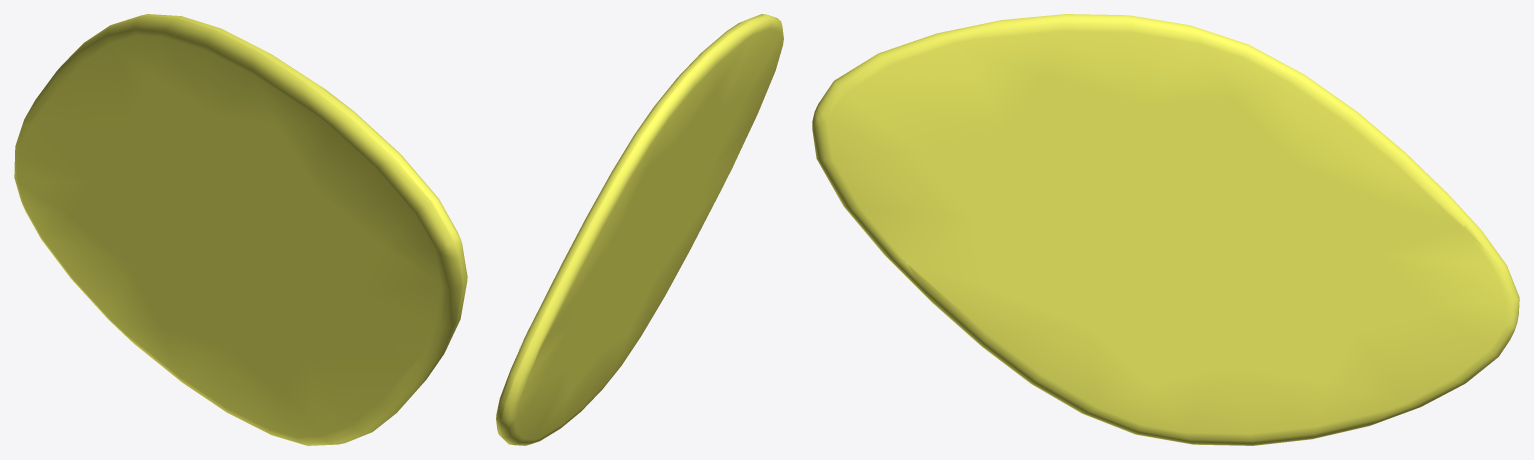
Rendered from fallLeaf_0.glb.
3 renders of one model, left to right at view 1: azimuth 30°, elevation 25°; view 2: azimuth 150°, elevation 25°; view 3: azimuth 270°, elevation 25°, orthographic. The views are drawn at different scales.
Parts seen in each view (by area): view 1: Leaf_DarkGreen_Bent.400; view 2: Leaf_DarkGreen_Bent.400; view 3: Leaf_DarkGreen_Bent.400.
Part boxes in pixels (<box>): Leaf_DarkGreen_Bent.400: <box>14,14,467,445</box>; Leaf_DarkGreen_Bent.400: <box>496,14,783,445</box>; Leaf_DarkGreen_Bent.400: <box>812,14,1519,445</box>.
Size of the model in its own units: 0.385 by 1.37 by 2.23.
